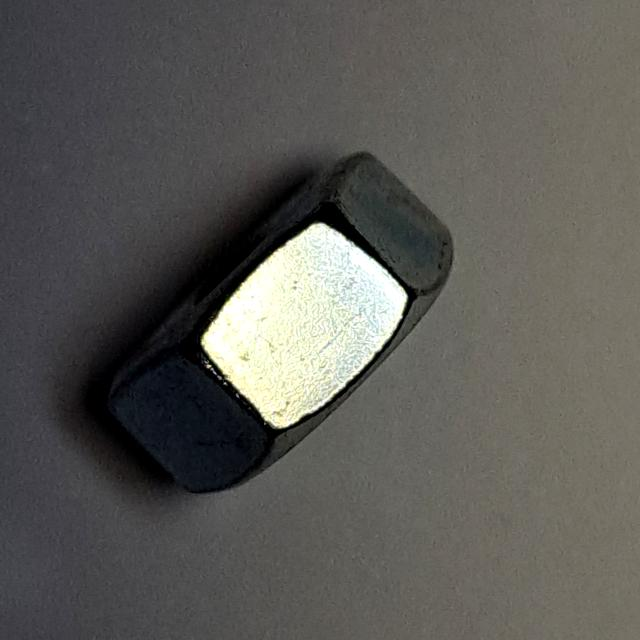Side_Excellent: (85, 130, 468, 514)
